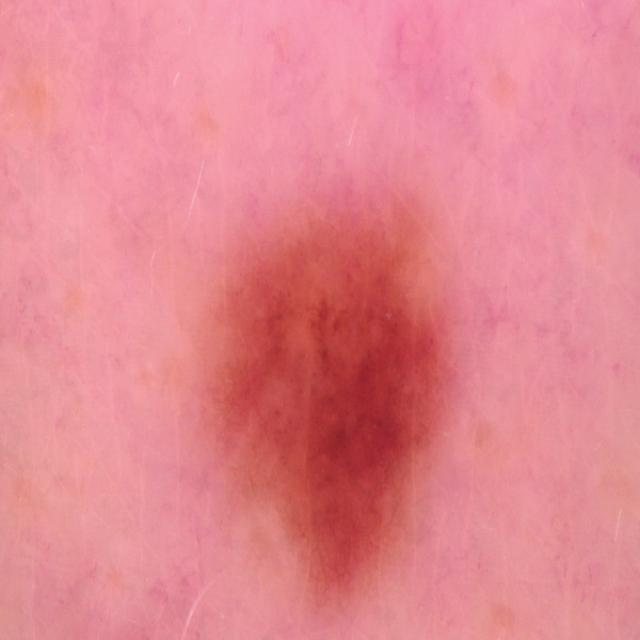NV: (201, 192, 457, 616)
